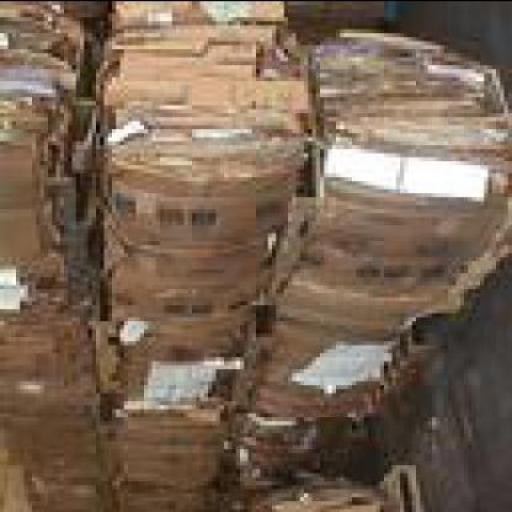cardboard: (276, 24, 508, 308), (92, 20, 308, 216), (244, 276, 416, 416), (0, 1, 78, 276), (96, 300, 240, 400), (100, 216, 268, 300), (0, 275, 92, 403), (103, 400, 224, 489), (228, 388, 336, 476), (104, 2, 296, 44), (224, 468, 388, 508), (0, 456, 108, 507), (0, 404, 96, 460), (112, 468, 228, 508), (280, 1, 386, 32)
